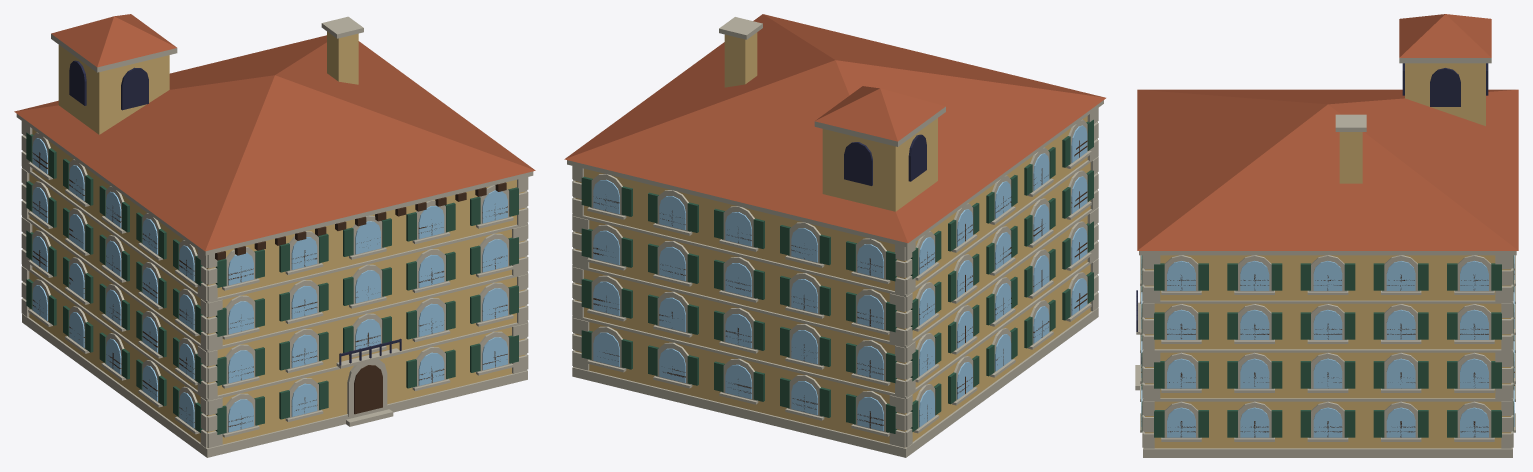
The model's file is house-2x2-4f-tuscan-a.glb.
3 views of the same model, side by side, from view 1: azimuth 30°, elevation 25°; view 2: azimuth 150°, elevation 25°; view 3: azimuth 270°, elevation 25° (orthographic). The views are drawn at different scales.
Visible parts, largest first — view 1: house-2x2-4f-tuscan-a; view 2: house-2x2-4f-tuscan-a; view 3: house-2x2-4f-tuscan-a.
Boxes of the visible parts, x1,y1,x2,y2 form: house-2x2-4f-tuscan-a: (14,14,535,457); house-2x2-4f-tuscan-a: (564,14,1105,457); house-2x2-4f-tuscan-a: (1135,14,1518,457).
Bounding box in the file's own units: 1.98 × 1.81 × 1.99.
Materials: 1 (1 with a texture image).
